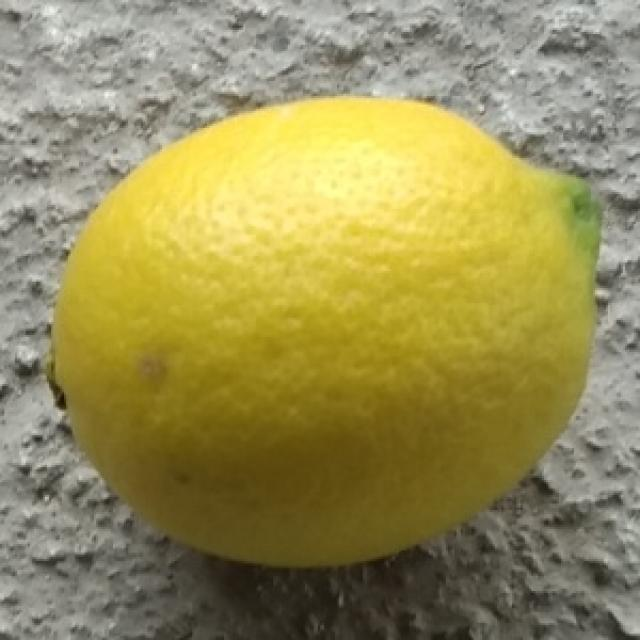Ripe: (41, 85, 613, 576)
